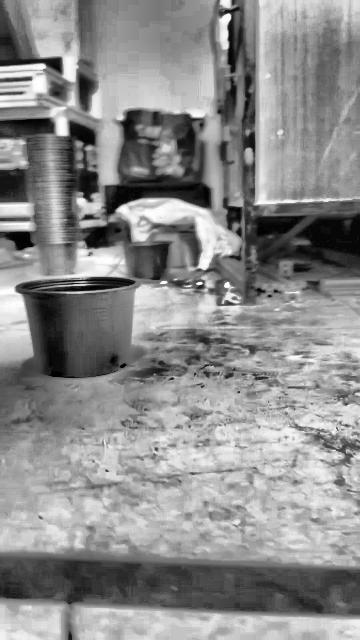pot: (15, 277, 140, 378), (123, 241, 171, 283)
